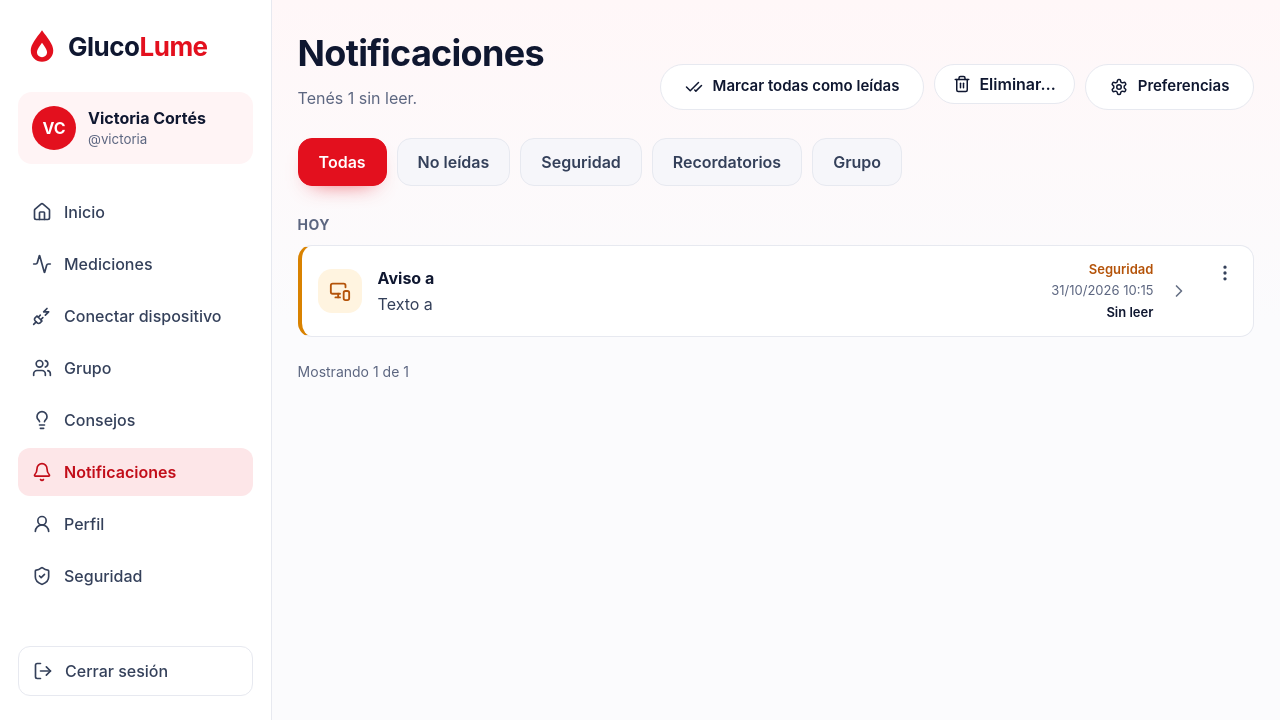
Test: Bandeja de notificaciones › la bandeja y las preferencias son pantallas separadas
Click the link "Preferencias" at (1170,87), box [1085,64,1254,110]
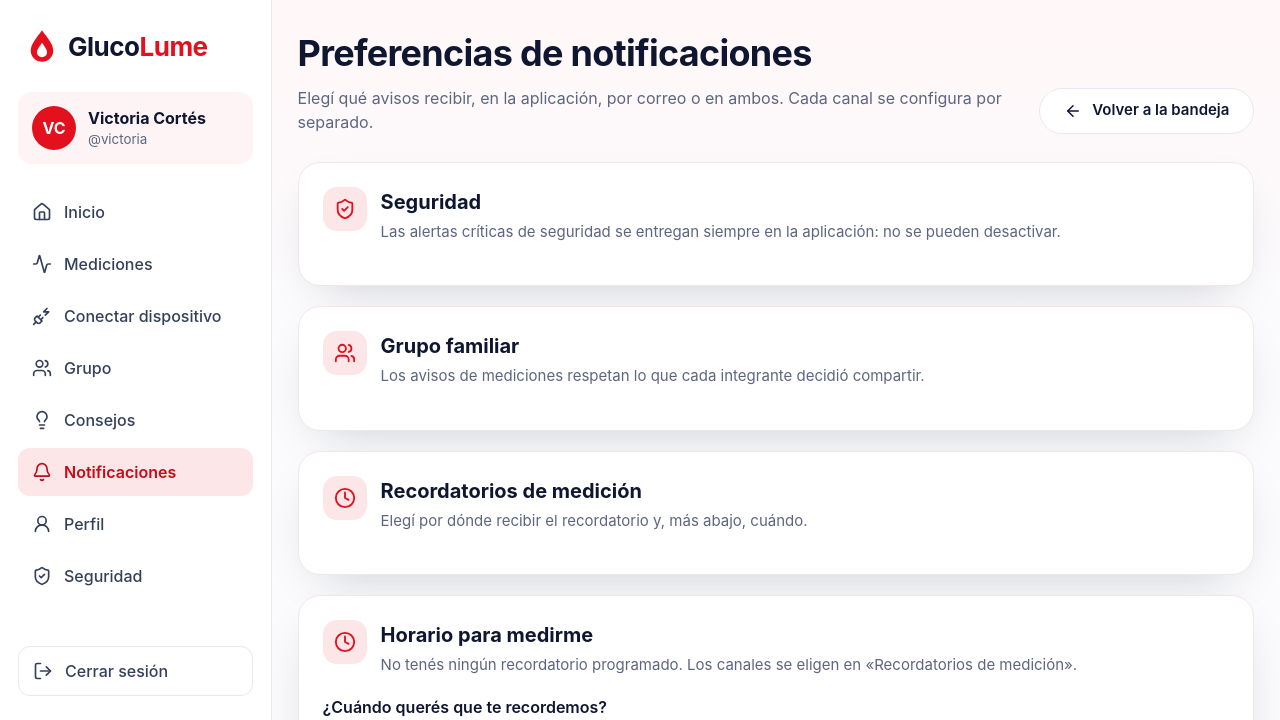
Result: the heading "Preferencias de notificaciones" is shown at [298,31,812,75]
